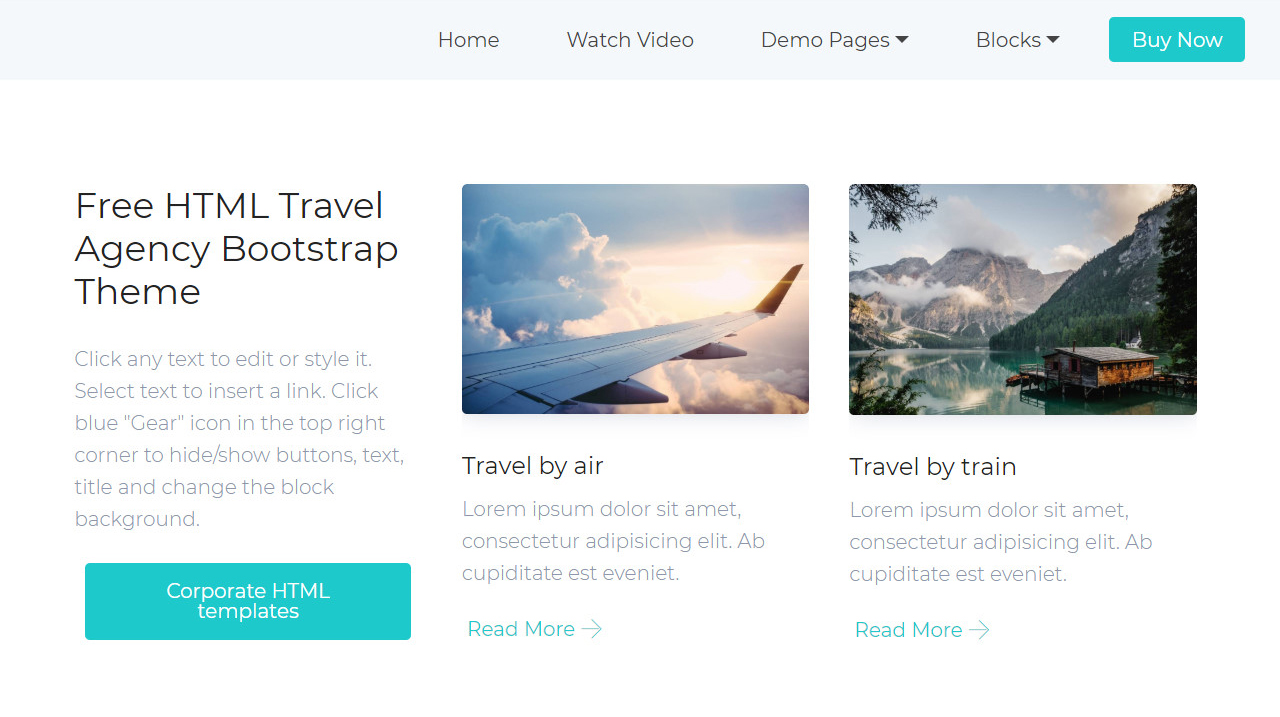button: (70, 558, 424, 658), (1095, 9, 1249, 67)
dropdown: (744, 12, 917, 63), (948, 5, 1076, 69)
